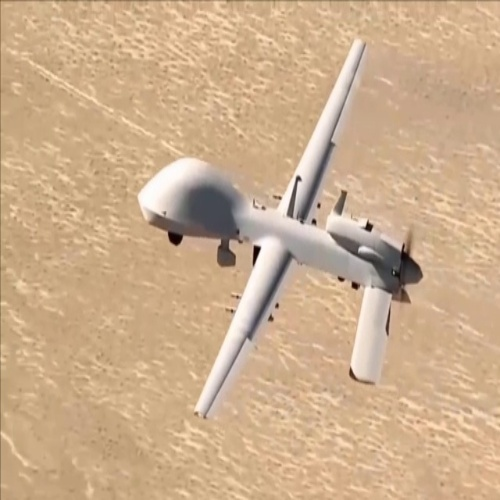uav784: (131, 38, 425, 421)
